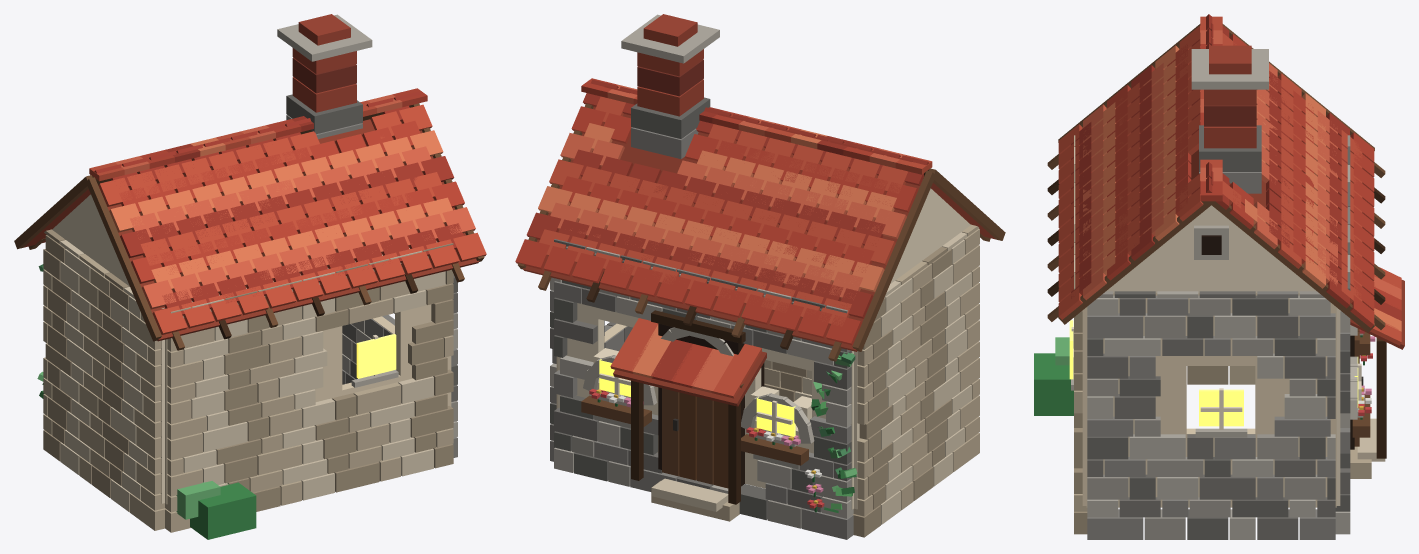
Rendered from vn_building_stone_cottage.glb.
3 renders of one model, left to right at view 1: azimuth 30°, elevation 25°; view 2: azimuth 150°, elevation 25°; view 3: azimuth 270°, elevation 25°, orthographic. The views are drawn at different scales.
Visible parts, largest first — view 1: stone_blocks, stone_roof, stone_chimney, stone_walls, stone_roof_wood, stone_veg, stone_windows; view 2: stone_roof, stone_blocks, stone_chimney, stone_walls, stone_doors, stone_roof_wood, stone_deco, stone_windows, stone_veg, stone_timber; view 3: stone_blocks, stone_roof, stone_walls, stone_chimney, stone_roof_wood, stone_windows, stone_veg, stone_deco.
Part boxes in pixels (box(x1,y1,x2,y2)): stone_blocks: box(43, 229, 457, 532); stone_roof: box(23, 88, 486, 341); stone_chimney: box(277, 14, 372, 139); stone_walls: box(52, 194, 451, 504); stone_roof_wood: box(14, 103, 484, 350); stone_veg: box(37, 264, 256, 539); stone_windows: box(351, 312, 398, 387); stone_roof: box(515, 78, 995, 406); stone_blocks: box(550, 224, 979, 539); stone_chimney: box(621, 14, 719, 158); stone_walls: box(556, 188, 970, 509); stone_doors: box(662, 388, 728, 488); stone_roof_wood: box(518, 103, 1005, 361); stone_deco: box(581, 380, 808, 504); stone_windows: box(598, 323, 796, 486); stone_veg: box(589, 352, 857, 512); stone_timber: box(651, 310, 745, 343); stone_blocks: box(1074, 135, 1385, 539); stone_roof: box(1058, 14, 1404, 349); stone_walls: box(1082, 205, 1340, 507); stone_chimney: box(1191, 45, 1268, 193); stone_roof_wood: box(1047, 24, 1385, 332); stone_windows: box(1069, 235, 1363, 449); stone_veg: box(1034, 329, 1375, 419); stone_deco: box(1194, 225, 1386, 458).
Bounding box in the file's own units: 3.45 × 3.96 × 2.97.
